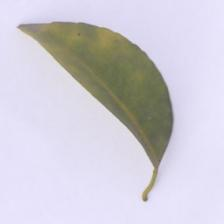greening: (14, 15, 167, 81)
